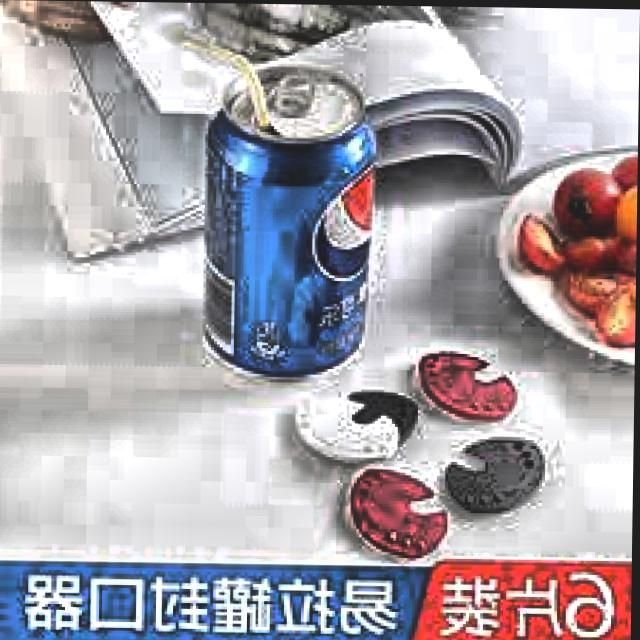can: (191, 55, 385, 384)
